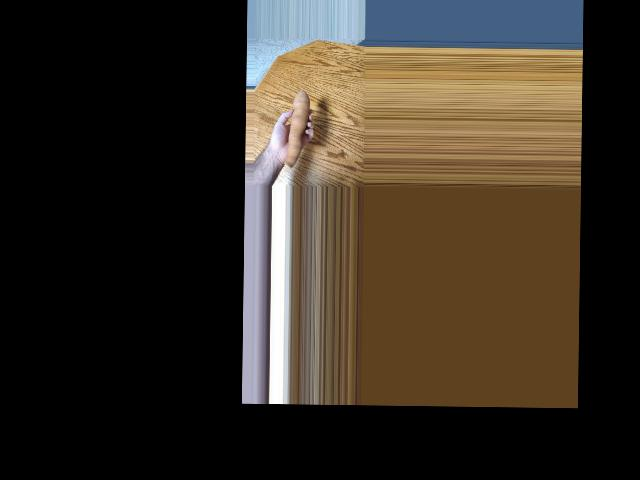sweet_potato: (283, 90, 315, 163)
